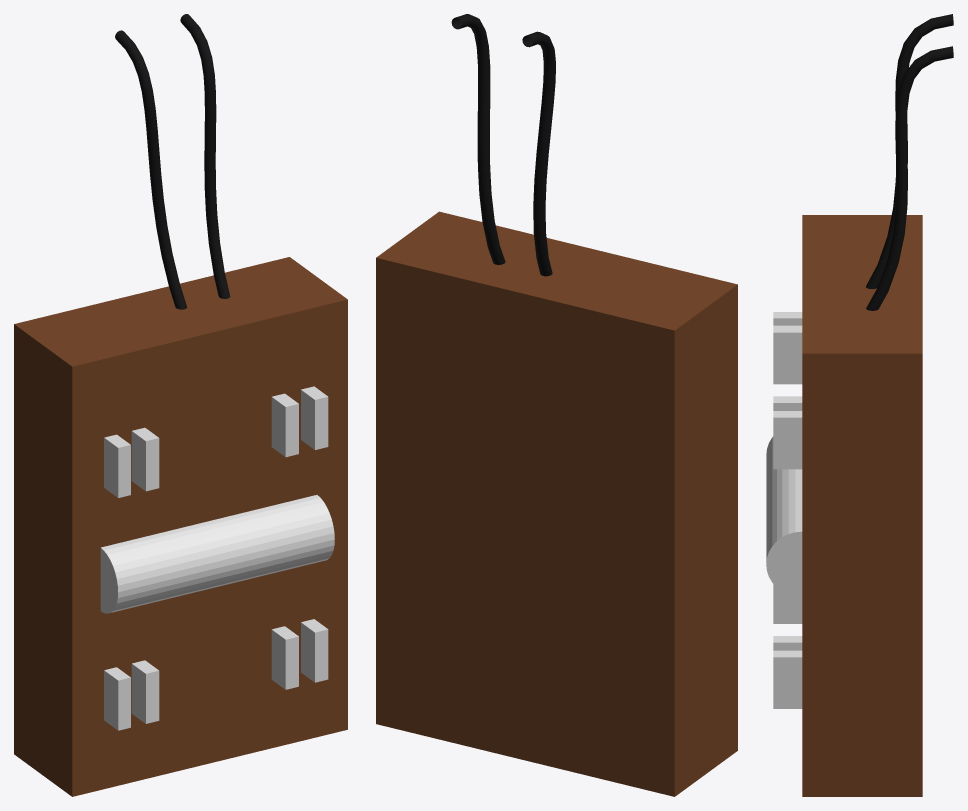
File: lever1.fbx
The picture shows the model from 3 angles, left to right: view 1: azimuth 30°, elevation 25°; view 2: azimuth 150°, elevation 25°; view 3: azimuth 270°, elevation 25°; orthographic projection. The views are drawn at different scales.
Parts seen in each view (by area): view 1: Cylinder; view 2: Cylinder; view 3: Cylinder.
Boxes of the visible parts, bbox=[...] form: Cylinder: bbox=[14, 14, 347, 796]; Cylinder: bbox=[376, 14, 737, 796]; Cylinder: bbox=[766, 14, 953, 796].
Size of the model in its own units: 224 by 532 by 128.
